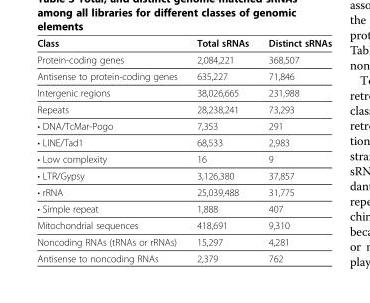table: (36, 36, 331, 263)
table column: (36, 36, 186, 263), (258, 36, 331, 263), (186, 36, 258, 263)
table column header: (36, 36, 331, 51)
table row: (36, 67, 331, 84), (36, 100, 331, 117), (36, 133, 331, 150), (36, 150, 331, 167), (36, 183, 331, 200), (36, 216, 331, 233), (36, 51, 331, 67), (36, 84, 331, 100), (36, 117, 331, 133), (36, 167, 331, 183), (36, 200, 331, 216), (36, 233, 331, 249), (36, 36, 331, 51), (36, 249, 331, 263)
